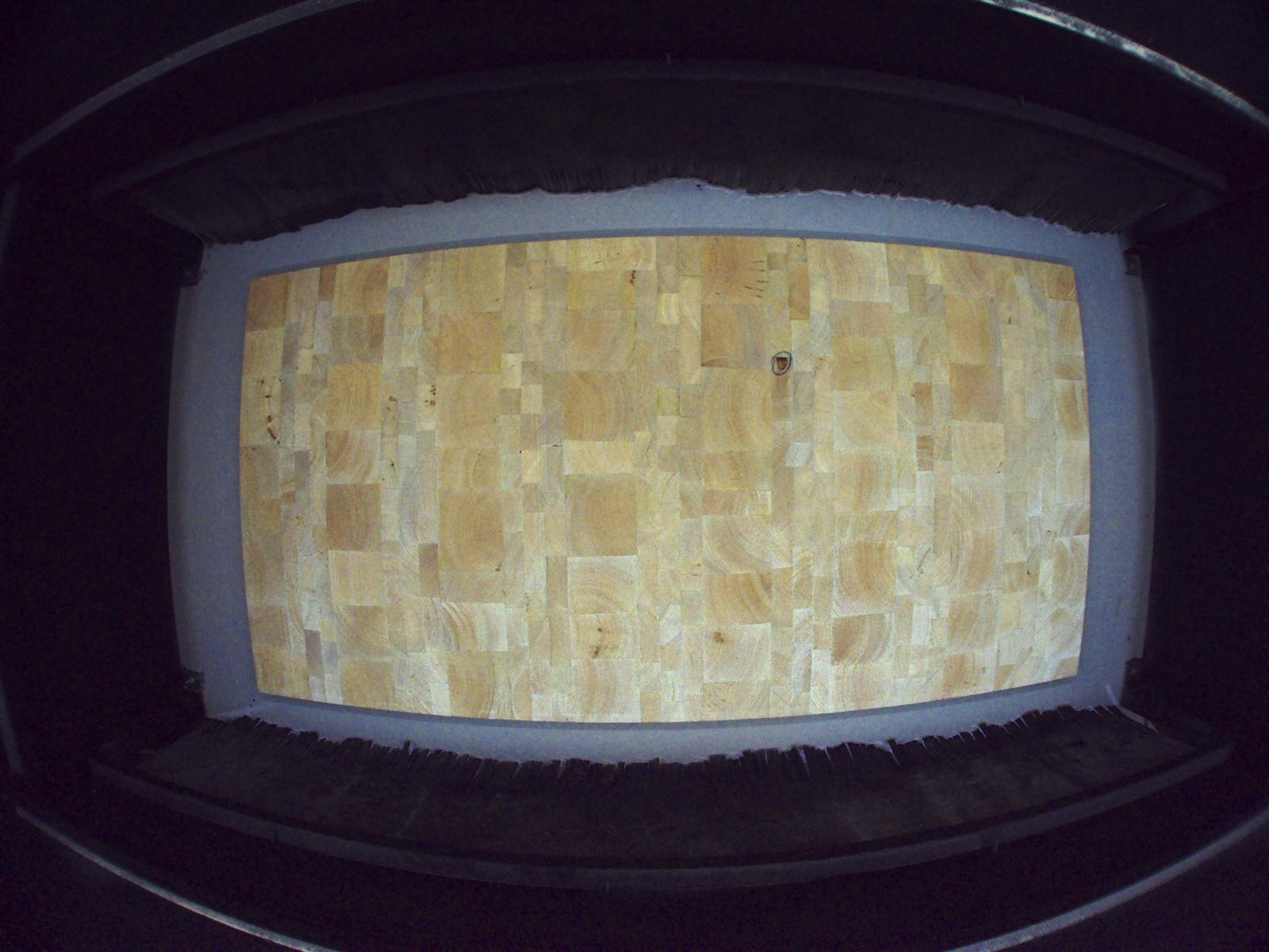nudillo: (775, 354, 790, 374)
